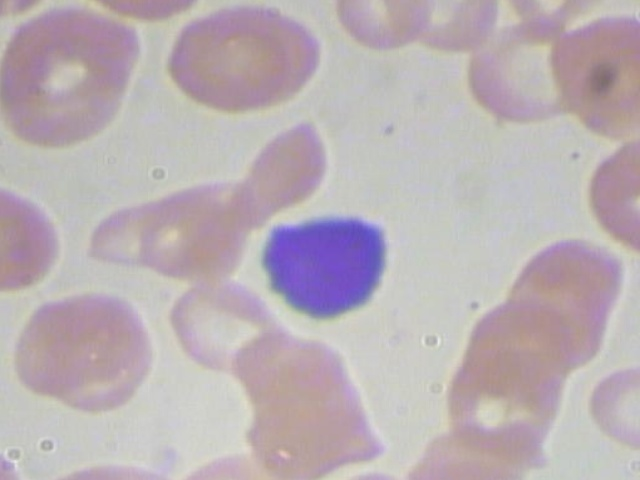RBC: (463, 12, 589, 136), (434, 345, 568, 456), (163, 10, 292, 120), (4, 292, 132, 402), (1, 38, 130, 147), (542, 10, 640, 143), (159, 274, 284, 377), (127, 178, 251, 281), (228, 114, 329, 231), (0, 184, 78, 293), (575, 139, 640, 263), (575, 350, 640, 473)
WBC: (246, 207, 403, 321)
